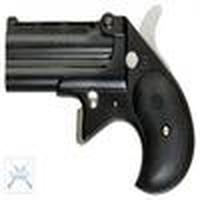gun: (3, 11, 195, 198)
